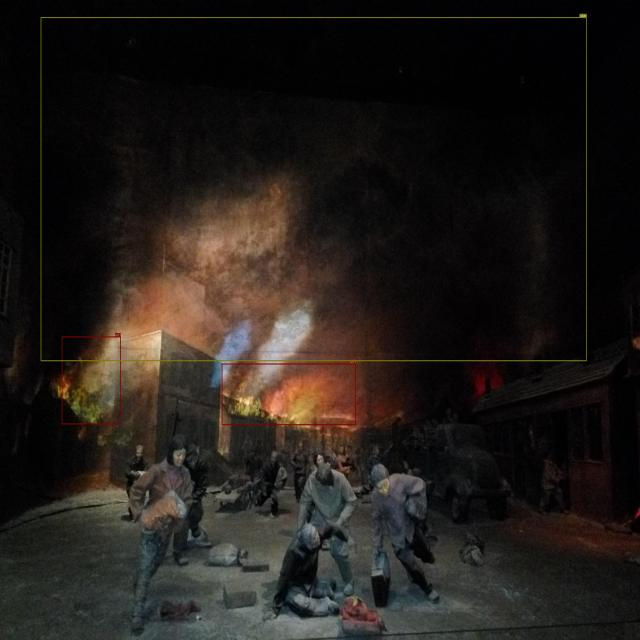fire: (222, 363, 356, 425), (62, 336, 121, 424)
smoke: (41, 17, 587, 361)
